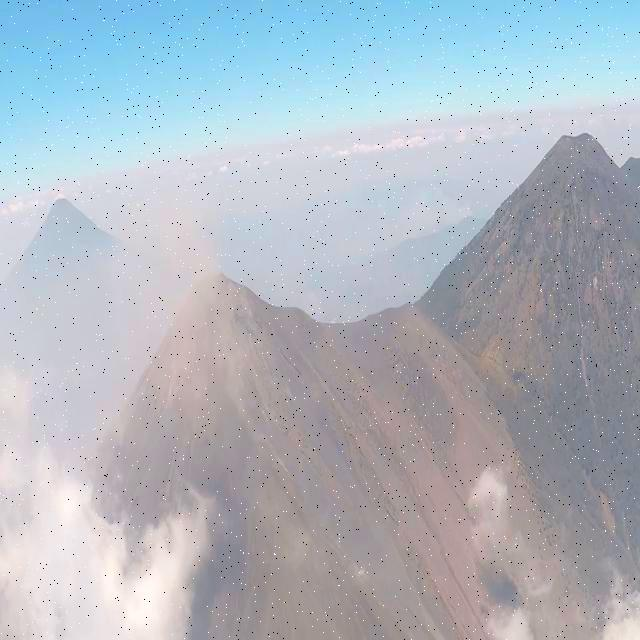Summit: (106, 253, 318, 431)
